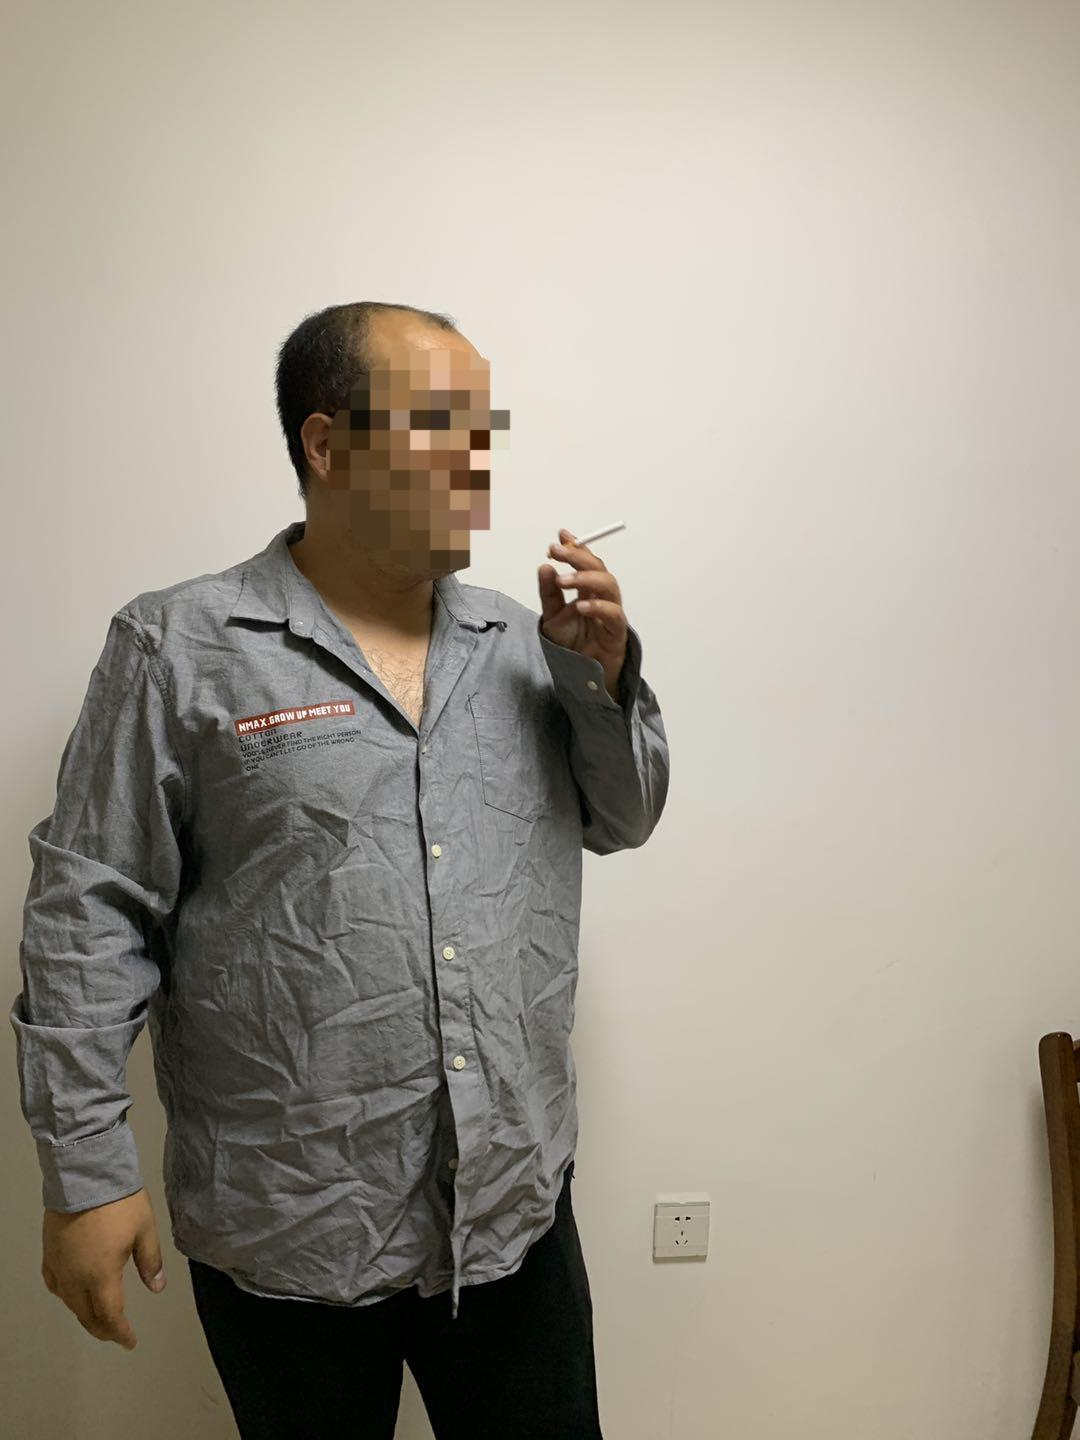smoke: (574, 519, 635, 549)
